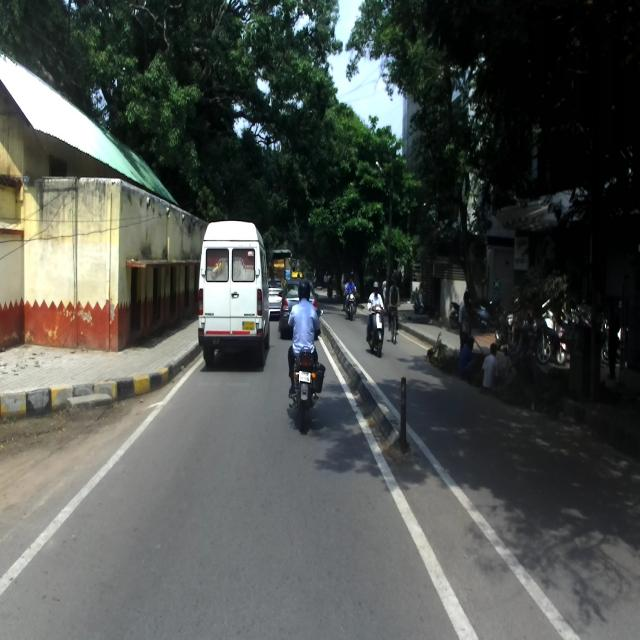mini-bus: (197, 219, 273, 369)
motorcycle: (288, 304, 325, 432), (507, 302, 553, 364), (538, 306, 568, 366)
scooter: (366, 298, 385, 356)
